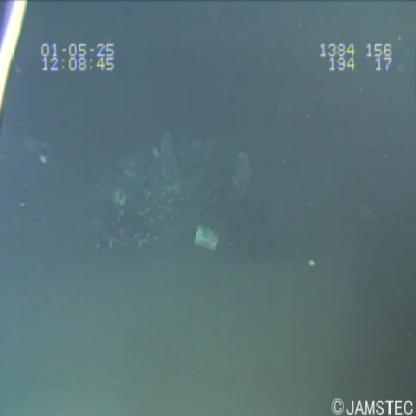Rov: (1, 1, 39, 134)
Rác: (186, 218, 223, 262)
